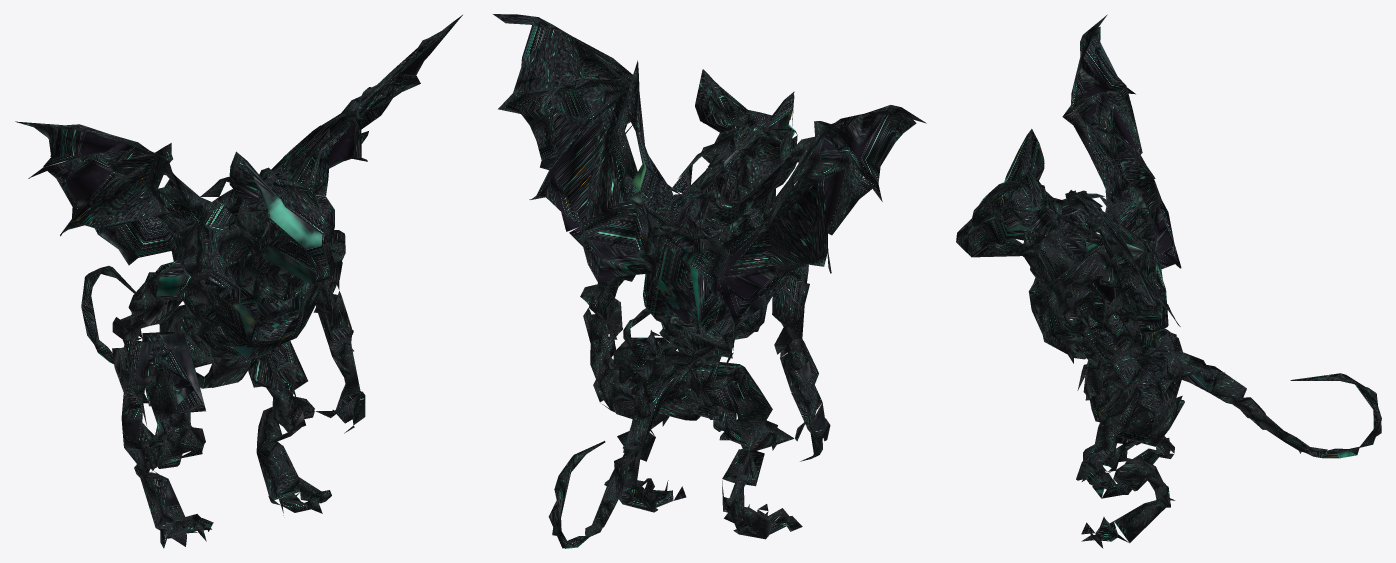
Rendered from bat.glb.
3 renders of one model, left to right at view 1: azimuth 30°, elevation 25°; view 2: azimuth 150°, elevation 25°; view 3: azimuth 270°, elevation 25°, orthographic. The views are drawn at different scales.
Visible parts, largest first — view 1: geometry_0; view 2: geometry_0; view 3: geometry_0.
Part boxes in pixels (left/top/right/bottom): geometry_0: left=15, top=15, right=462, bottom=548; geometry_0: left=493, top=14, right=926, bottom=548; geometry_0: left=956, top=14, right=1381, bottom=548.
Bounding box in the file's own units: 0.9815 × 0.9566 × 0.9156.
Materials: 1 (1 with a texture image).
